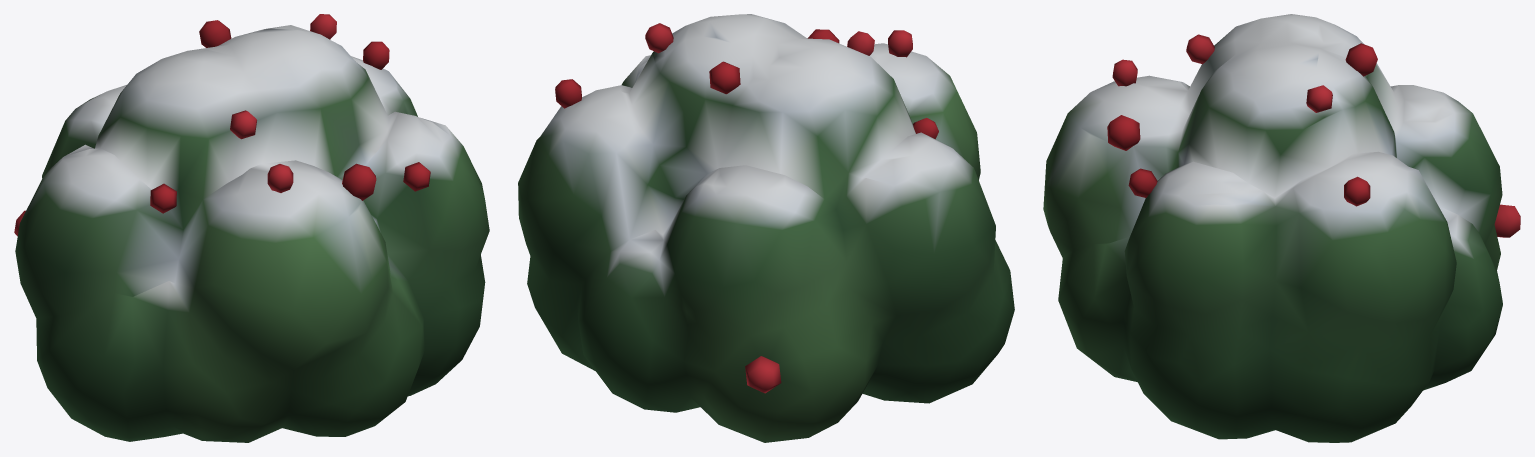
Rendered from bush-a-winter.glb.
3 renders of one model, left to right at view 1: azimuth 30°, elevation 25°; view 2: azimuth 150°, elevation 25°; view 3: azimuth 270°, elevation 25°, orthographic.
Visible parts, largest first — view 1: bush-a-winter; view 2: bush-a-winter; view 3: bush-a-winter.
Part boxes in pixels (x1=…): bush-a-winter: x1=14, y1=14, x2=489, y2=442; bush-a-winter: x1=518, y1=14, x2=1014, y2=442; bush-a-winter: x1=1043, y1=14, x2=1520, y2=442.
Bounding box in the file's own units: 1 × 0.8264 × 1.
